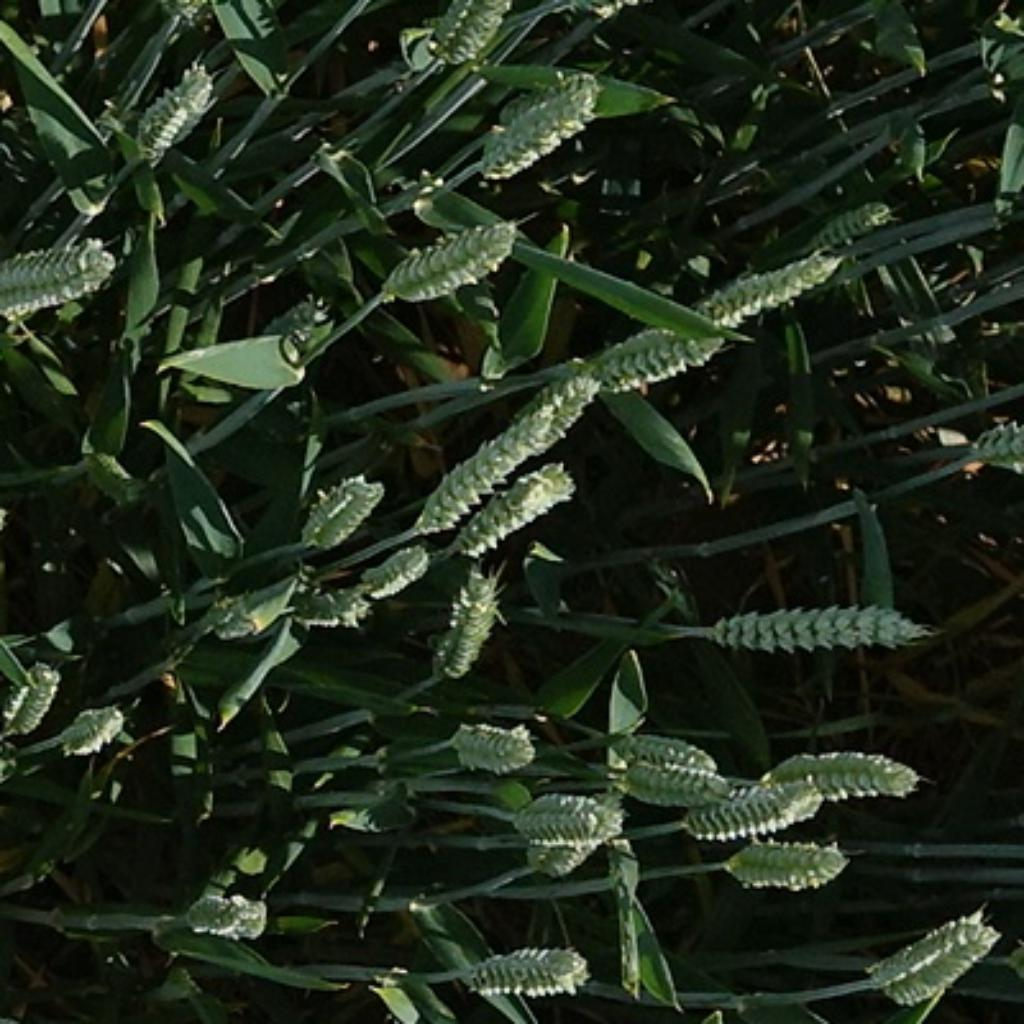0-0: (404, 366, 599, 537), (680, 581, 939, 668), (855, 888, 1008, 1018), (691, 227, 867, 335), (468, 56, 609, 179), (371, 209, 527, 304), (450, 450, 583, 558), (555, 317, 729, 391), (253, 273, 353, 388), (0, 230, 128, 317), (668, 778, 829, 847), (499, 783, 632, 862), (125, 53, 222, 161), (765, 742, 926, 803), (609, 727, 732, 806), (522, 798, 627, 890), (453, 934, 599, 1000), (427, 563, 506, 680), (709, 834, 855, 893), (291, 463, 389, 550), (166, 882, 279, 951), (412, 2, 512, 76), (279, 563, 384, 632), (440, 711, 542, 775), (803, 186, 898, 250), (0, 652, 69, 737), (47, 697, 139, 755), (73, 437, 145, 510), (358, 537, 437, 599)
